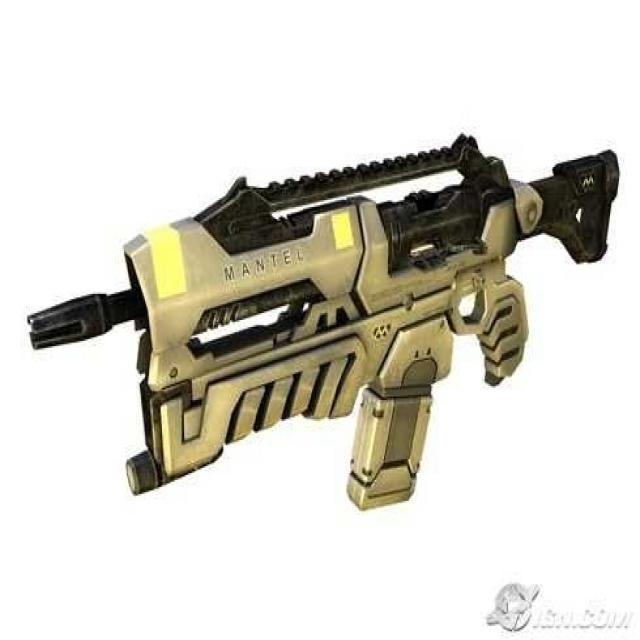weapon: (18, 102, 631, 514)
